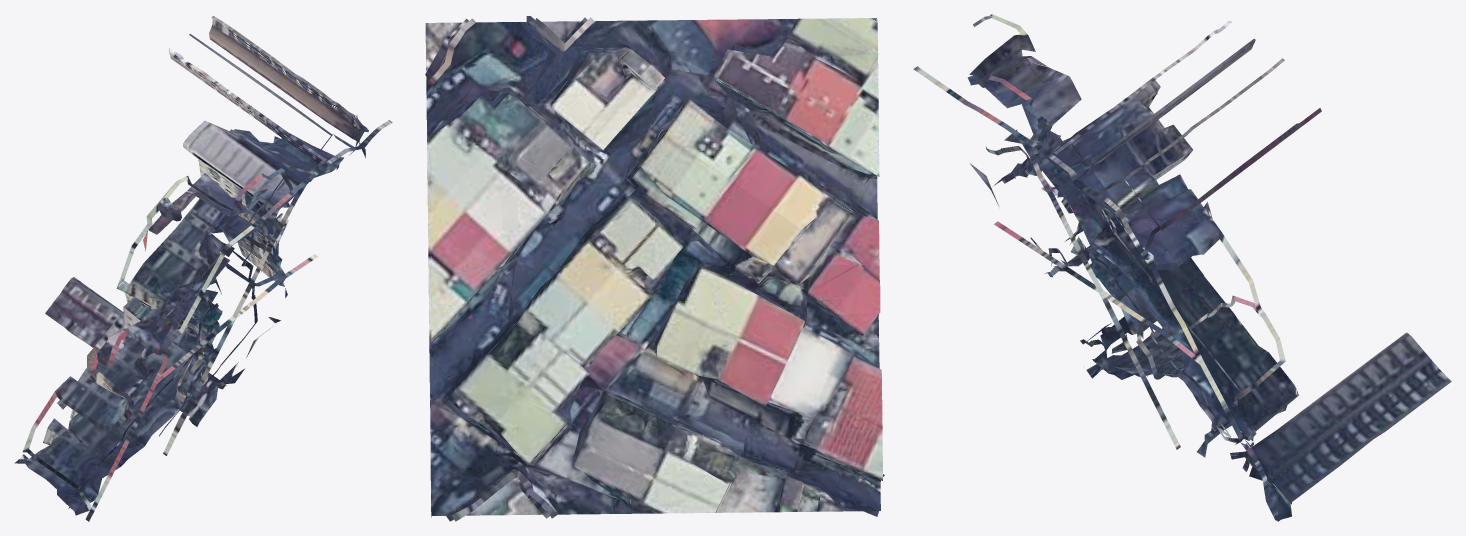
3 views of the same model, side by side, from view 1: azimuth 30°, elevation 25°; view 2: azimuth 150°, elevation 25°; view 3: azimuth 270°, elevation 25° (orthographic). The views are drawn at different scales.
Bounding box in the file's own units: 84.45 × 87.13 × 95.
Materials: 2 (2 with a texture image).
